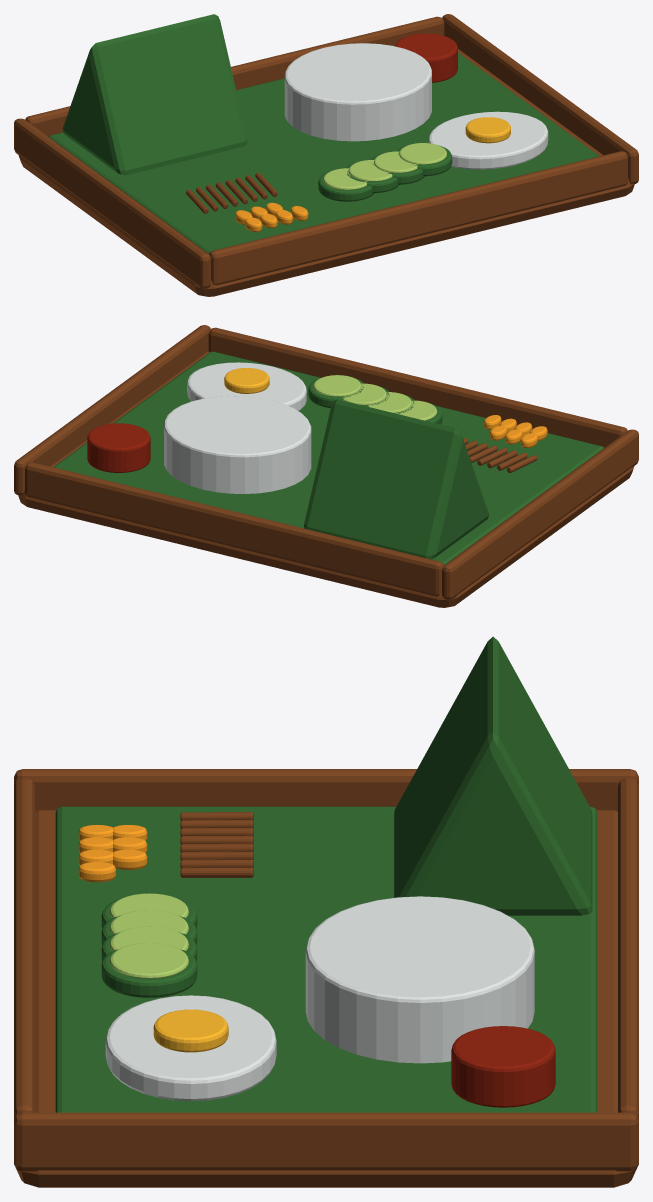
The picture shows the model from 3 angles, top to bottom: view 1: azimuth 30°, elevation 25°; view 2: azimuth 150°, elevation 25°; view 3: azimuth 270°, elevation 25°; orthographic projection. The views are drawn at different scales.
Visible parts, largest first — view 1: LEAF_Liner, LEAF_Packet, TRAY_Rim.002, RICE_Mound, TRAY_Rim, TRAY_Base, TRAY_Rim.001, EGG_White, TRAY_Rim.003, SAMBAL, EGG_Yolk, CUCUMBER_Flesh (+6 smaller); view 2: LEAF_Packet, LEAF_Liner, TRAY_Rim.003, RICE_Mound, TRAY_Rim.002, TRAY_Rim, TRAY_Base, TRAY_Rim.001, EGG_White, SAMBAL, EGG_Yolk, CUCUMBER_Flesh (+4 smaller); view 3: LEAF_Liner, LEAF_Packet, TRAY_Rim.001, RICE_Mound, TRAY_Base, TRAY_Rim, EGG_White, SAMBAL, TRAY_Rim.002, TRAY_Rim.003, EGG_Yolk, CUCUMBER_Flesh (+5 smaller).
Boxes of the visible parts, left/top/right/bottom form: LEAF_Liner: left=49, top=52, right=599, bottom=253; LEAF_Packet: left=62, top=14, right=247, bottom=175; TRAY_Rim.002: left=209, top=151, right=627, bottom=285; RICE_Mound: left=284, top=43, right=431, bottom=141; TRAY_Rim: left=14, top=118, right=210, bottom=288; TRAY_Base: left=18, top=49, right=634, bottom=296; TRAY_Rim.001: left=442, top=14, right=638, bottom=184; EGG_White: left=428, top=111, right=548, bottom=169; TRAY_Rim.003: left=25, top=16, right=444, bottom=136; SAMBAL: left=395, top=33, right=457, bottom=82; EGG_Yolk: left=465, top=117, right=510, bottom=143; CUCUMBER_Flesh: left=399, top=143, right=446, bottom=164; LEAF_Packet: left=304, top=399, right=488, bottom=559; LEAF_Liner: left=53, top=351, right=603, bottom=564; TRAY_Rim.003: left=25, top=462, right=443, bottom=596; RICE_Mound: left=164, top=396, right=311, bottom=493; TRAY_Rim.002: left=208, top=327, right=627, bottom=447; TRAY_Rim: left=442, top=429, right=638, bottom=599; TRAY_Base: left=18, top=351, right=634, bottom=607; TRAY_Rim.001: left=14, top=325, right=210, bottom=495; EGG_White: left=187, top=362, right=306, bottom=411; SAMBAL: left=87, top=423, right=150, bottom=472; EGG_Yolk: left=224, top=368, right=269, bottom=393; CUCUMBER_Flesh: left=313, top=375, right=361, bottom=396; LEAF_Liner: left=55, top=806, right=597, bottom=1112; LEAF_Packet: left=394, top=636, right=592, bottom=915; TRAY_Rim.001: left=14, top=1112, right=638, bottom=1171; RICE_Mound: left=305, top=896, right=534, bottom=1063; TRAY_Base: left=14, top=810, right=638, bottom=1187; TRAY_Rim: left=14, top=769, right=638, bottom=811; EGG_White: left=105, top=995, right=276, bottom=1101; SAMBAL: left=451, top=1026, right=555, bottom=1107; TRAY_Rim.002: left=14, top=778, right=34, bottom=1119; TRAY_Rim.003: left=618, top=778, right=638, bottom=1119; EGG_Yolk: left=153, top=1009, right=228, bottom=1052; CUCUMBER_Flesh: left=110, top=943, right=188, bottom=978.
Size of the model in its own units: 0.4 by 0.1274 by 0.3.
